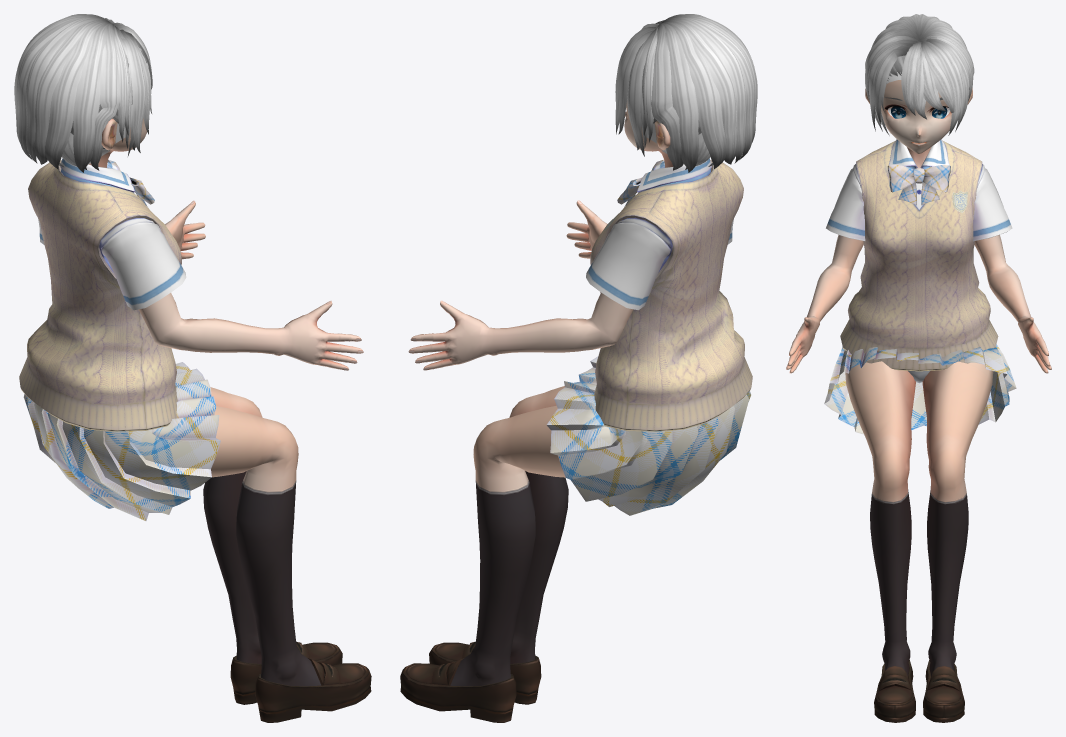
File: galaxia_sedi.glb
3 renders of one model, left to right at view 1: azimuth 30°, elevation 25°; view 2: azimuth 150°, elevation 25°; view 3: azimuth 270°, elevation 25°, orthographic. The views are drawn at different scales.
Bounding box in the file's own units: 0.6393 × 1.35 × 0.5383.
12 materials, 11 textured.
